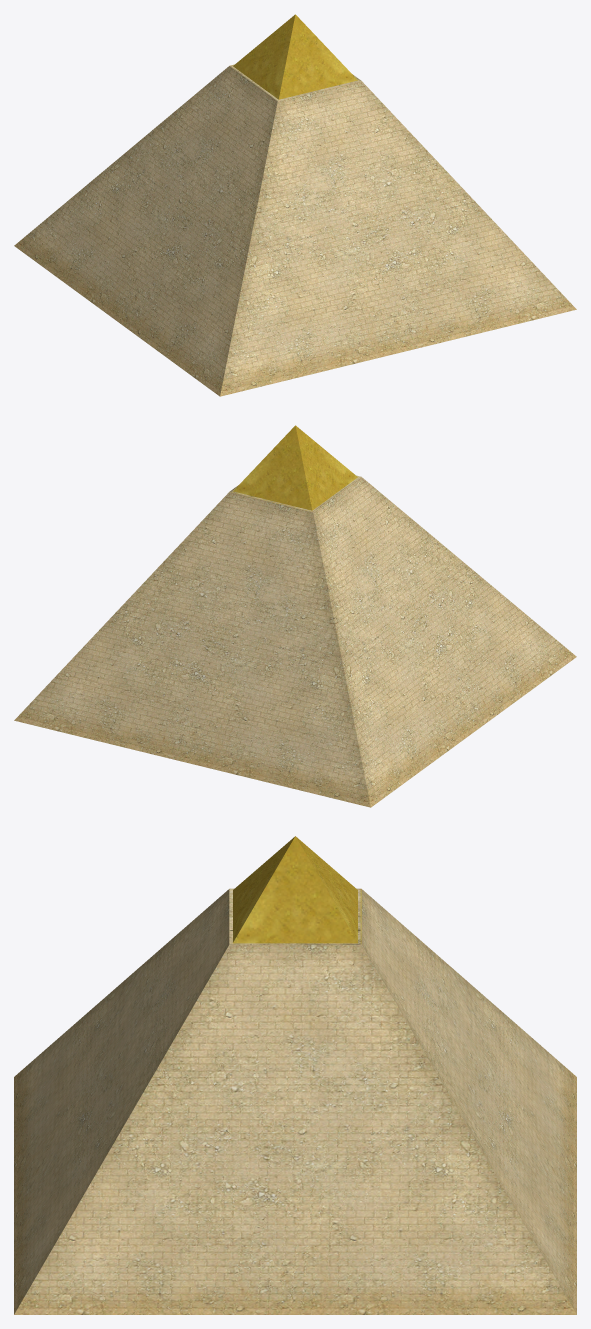
The picture shows the model from 3 angles, top to bottom: view 1: azimuth 30°, elevation 25°; view 2: azimuth 150°, elevation 25°; view 3: azimuth 270°, elevation 25°; orthographic projection. The views are drawn at different scales.
Parts seen in each view (by area): view 1: pyramid_part0; view 2: pyramid_part0; view 3: pyramid_part0.
Part boxes in pixels (x1,y1,x2,y2): pyramid_part0: [14, 14, 576, 396]; pyramid_part0: [14, 425, 576, 807]; pyramid_part0: [14, 836, 576, 1314].
Size of the model in its own units: 8 by 5.64 by 8.
1 material, 1 textured.
